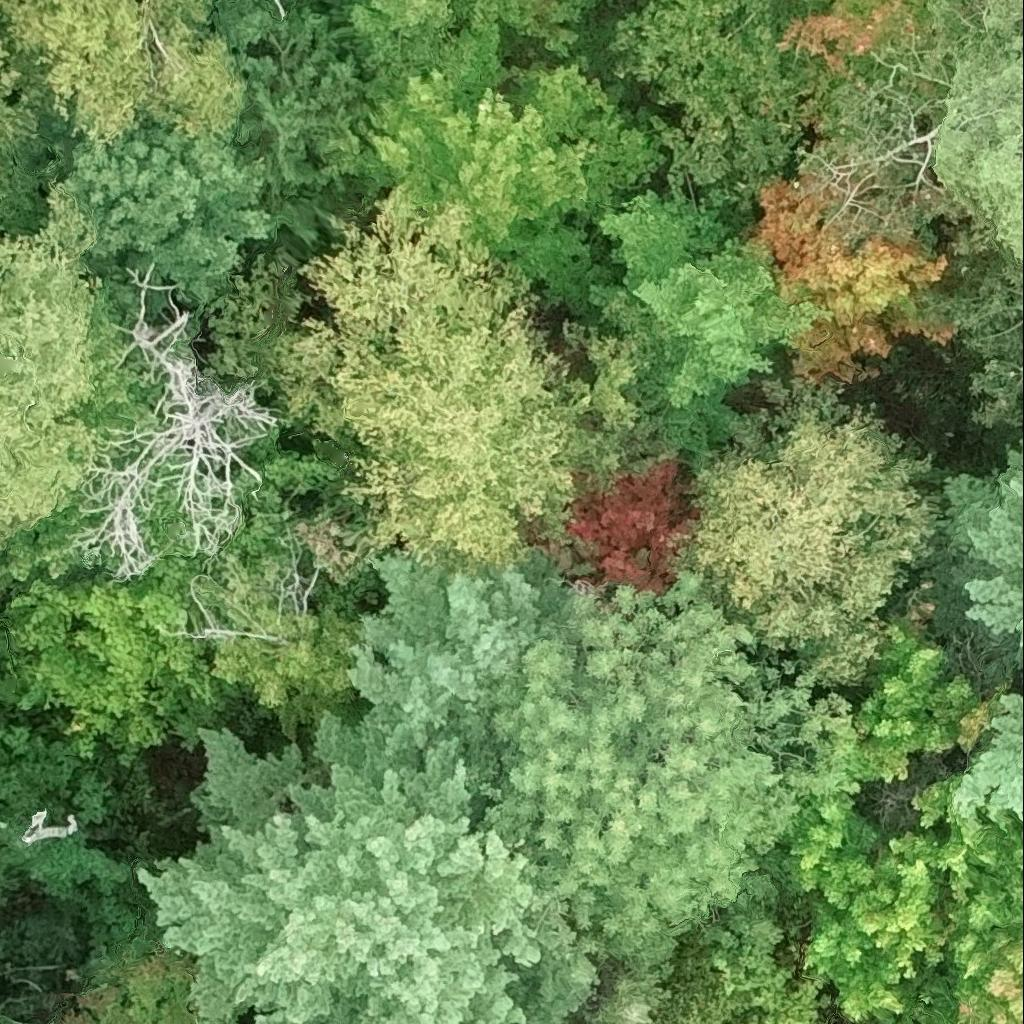crown: (132, 551, 603, 1023), (471, 570, 839, 976), (303, 183, 632, 580), (0, 439, 388, 757), (747, 628, 983, 1023), (345, 0, 665, 280), (692, 377, 942, 687), (76, 314, 275, 577), (748, 178, 965, 383), (0, 175, 166, 429), (613, 0, 800, 207), (0, 0, 239, 149), (901, 793, 1023, 1023), (0, 407, 142, 587), (772, 0, 956, 137), (915, 219, 1023, 450), (937, 0, 1023, 264), (708, 869, 834, 1023), (954, 434, 1023, 652), (651, 909, 766, 1023), (94, 931, 203, 1023), (960, 698, 1023, 817), (575, 957, 673, 1023), (0, 35, 44, 169), (0, 157, 6, 182), (863, 1021, 881, 1023)
